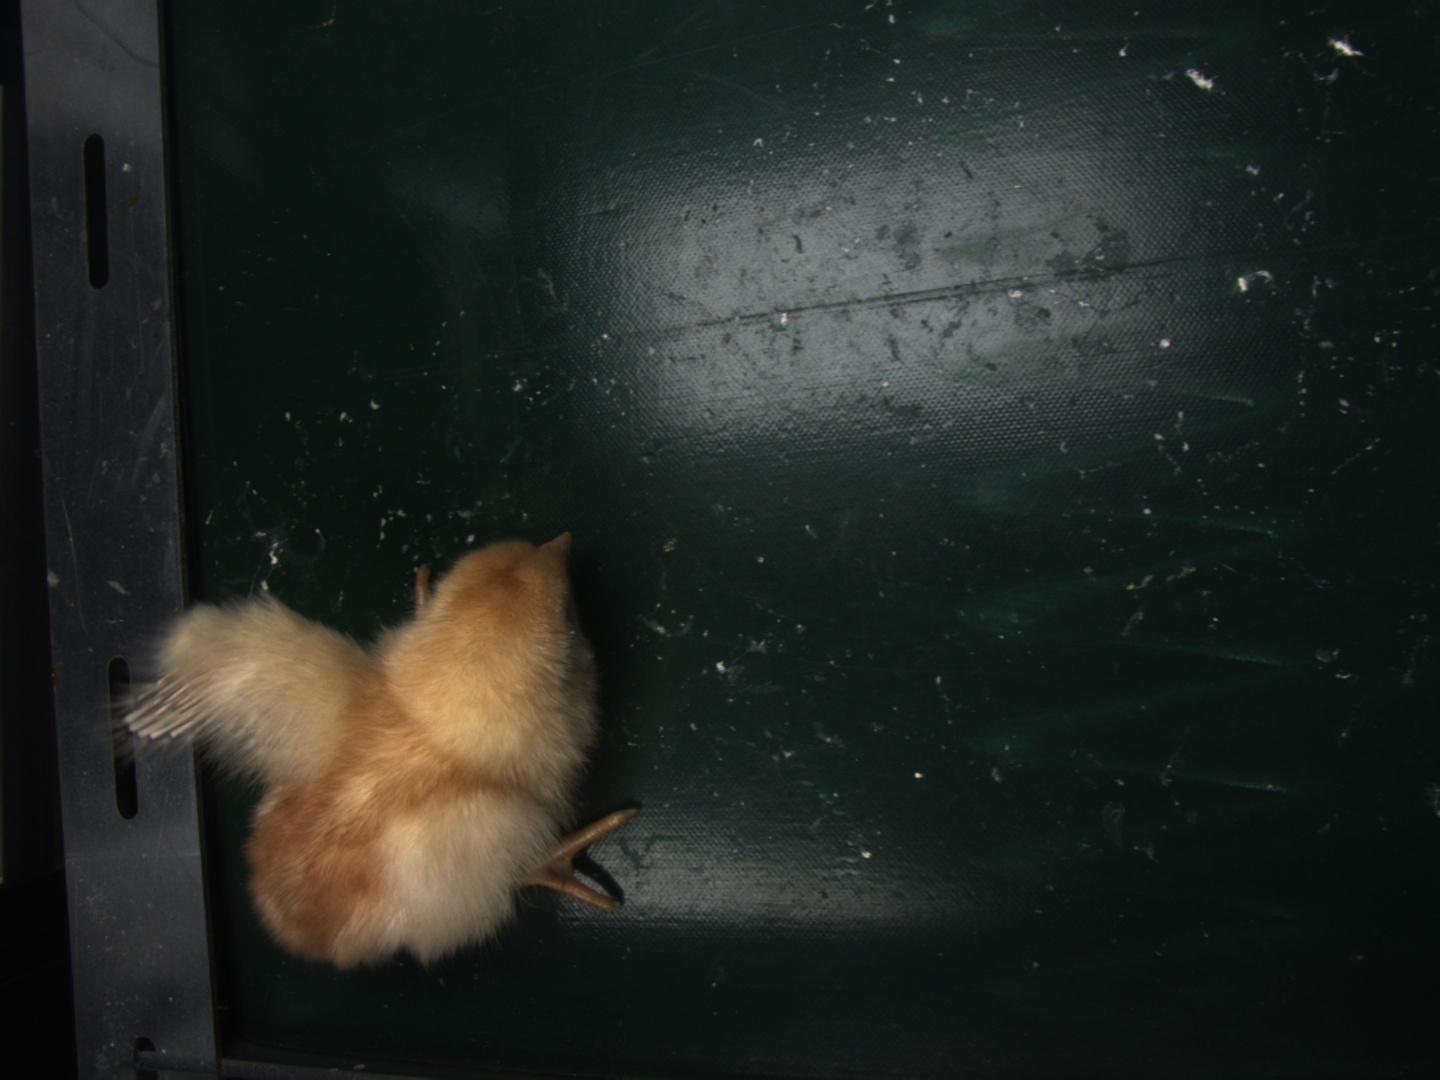female: (121, 666, 218, 736)
